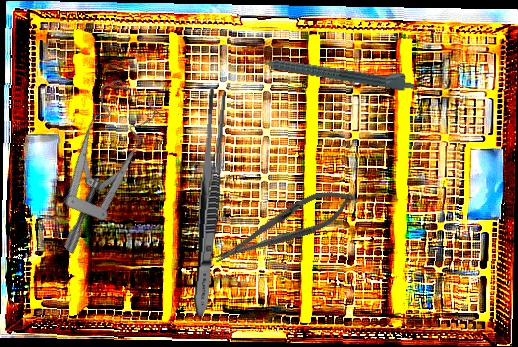Dressing Forceps: (190, 88, 228, 317)
Handpiece: (248, 47, 417, 93)
Needle Holder: (206, 177, 361, 277)
Speculum: (3, 70, 188, 256)
